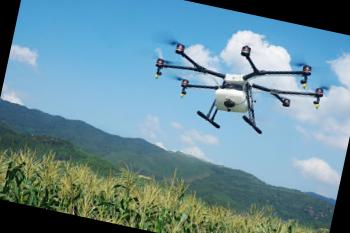drone: (141, 23, 340, 151)
